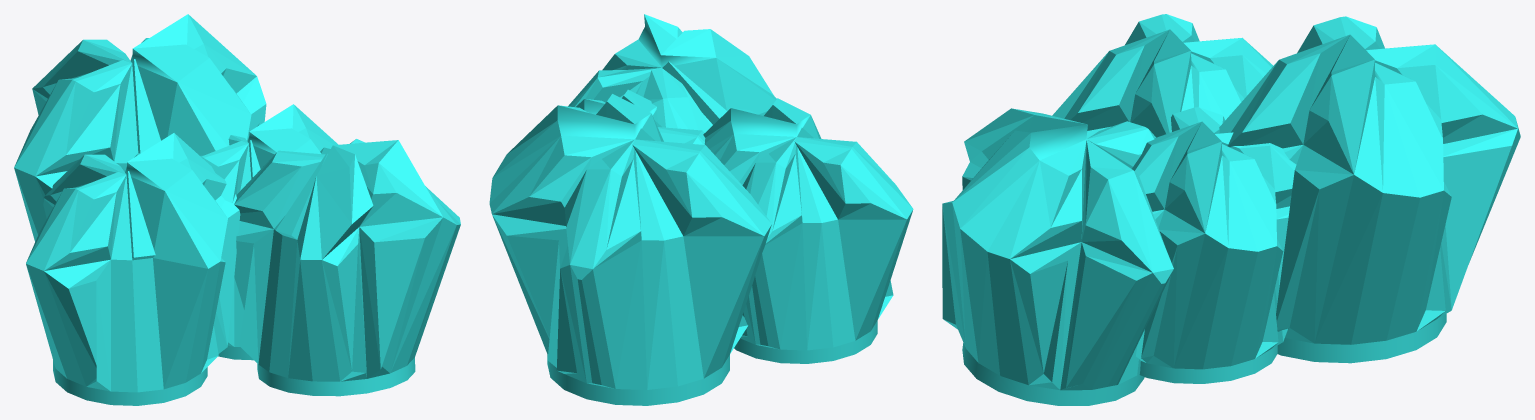
File: crystalscorner.FBX
The picture shows the model from 3 angles, left to right: view 1: azimuth 30°, elevation 25°; view 2: azimuth 150°, elevation 25°; view 3: azimuth 270°, elevation 25°; orthographic projection. The views are drawn at different scales.
Visible parts, largest first — view 1: Cylinder005; view 2: Cylinder005; view 3: Cylinder005.
Boxes of the visible parts, <box> form: Cylinder005: <box>14,14,460,405</box>; Cylinder005: <box>489,14,913,405</box>; Cylinder005: <box>942,14,1520,405</box>.
Size of the model in its own units: 27.86 by 19.18 by 32.58.
